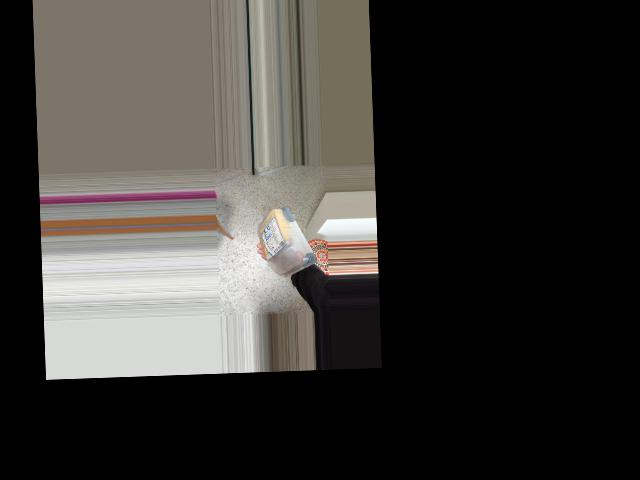cheese: (255, 202, 316, 288)
